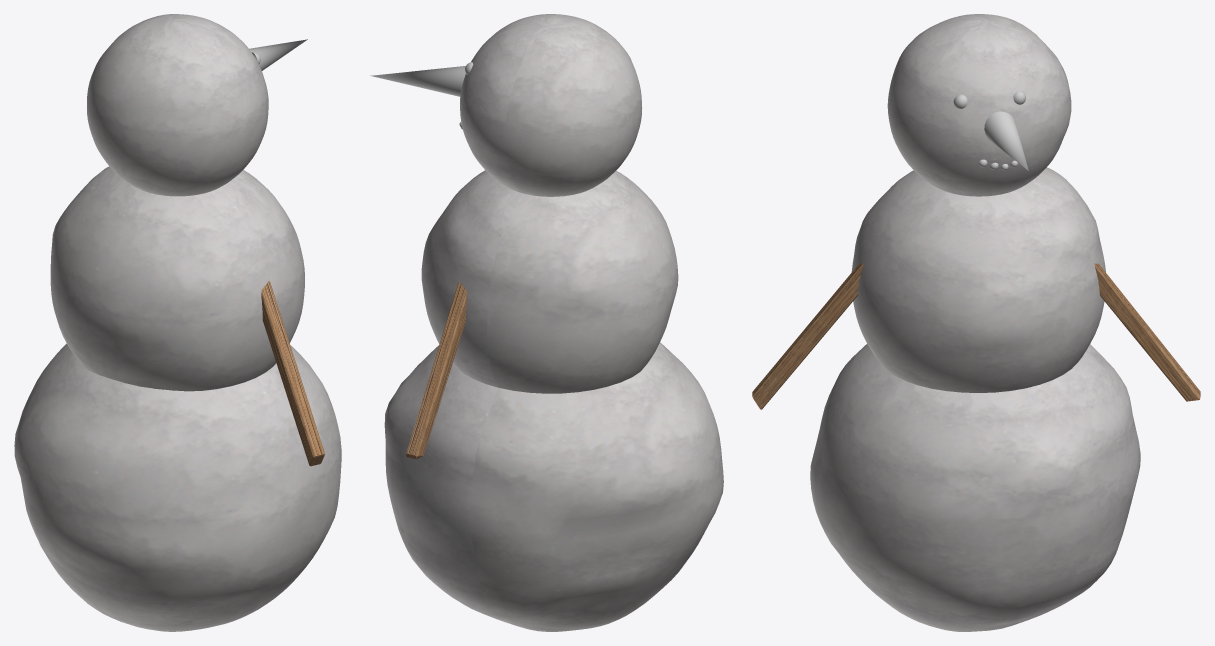
Rendered from Snowman.fbx.
3 renders of one model, left to right at view 1: azimuth 30°, elevation 25°; view 2: azimuth 150°, elevation 25°; view 3: azimuth 270°, elevation 25°, orthographic.
Visible parts, largest first — view 1: pSphere1, pSphere2, pSphere3, pCube1, nose; view 2: pSphere1, pSphere2, pSphere3, pCube2, nose; view 3: pSphere1, pSphere2, pSphere3, pCube1, pCube2, nose.
Boxes of the visible parts, <box> form: pSphere1: <box>14,343,341,631</box>; pSphere2: <box>50,166,304,391</box>; pSphere3: <box>87,14,268,196</box>; pCube1: <box>261,280,324,466</box>; nose: <box>249,39,307,70</box>; pSphere1: <box>384,342,723,631</box>; pSphere2: <box>421,170,678,393</box>; pSphere3: <box>460,14,642,196</box>; pCube2: <box>405,282,467,459</box>; nose: <box>370,66,465,96</box>; pSphere1: <box>810,344,1140,631</box>; pSphere2: <box>851,167,1105,392</box>; pSphere3: <box>887,14,1071,196</box>; pCube1: <box>752,263,863,409</box>; pCube2: <box>1094,263,1200,401</box>; nose: <box>984,111,1028,170</box>.
Size of the model in its own units: 18.95 by 35.55 by 24.21.
